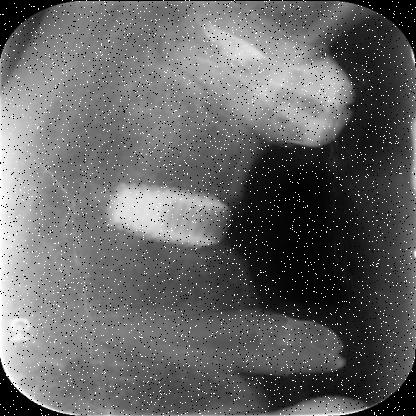Bicon: (84, 155, 261, 261)
